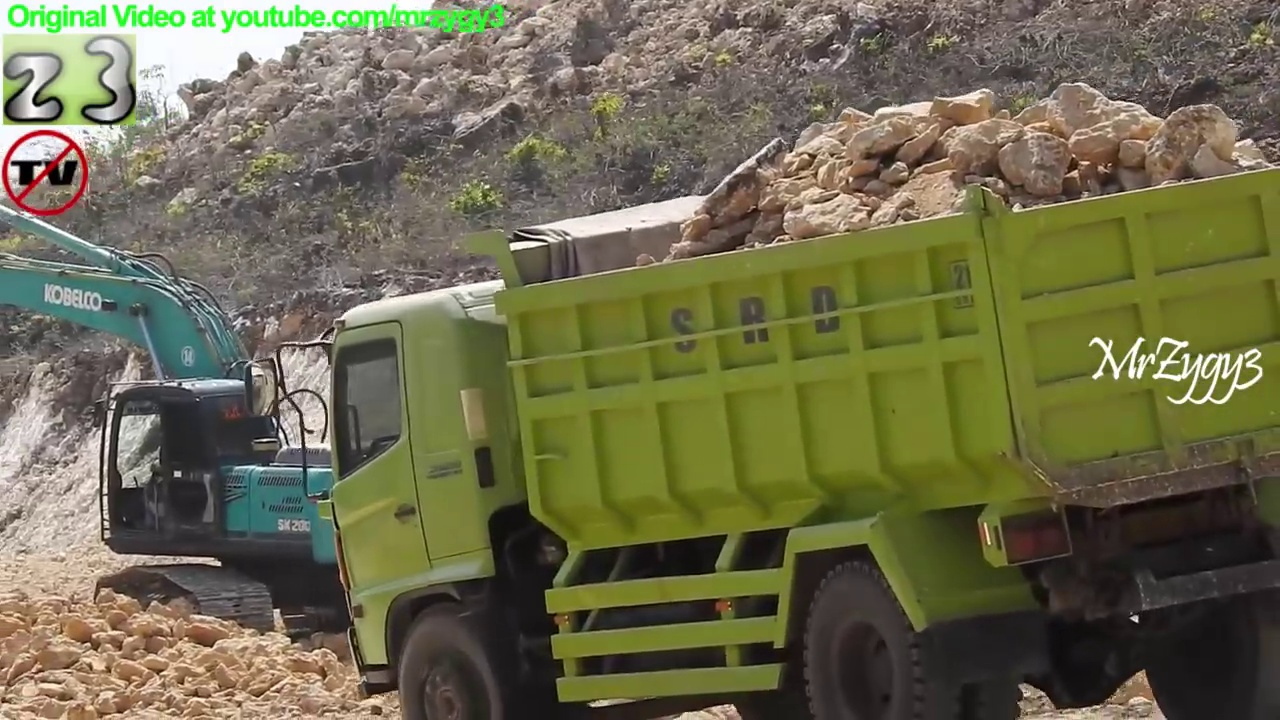excavator: (1, 190, 562, 671)
truck: (237, 131, 1280, 720)
